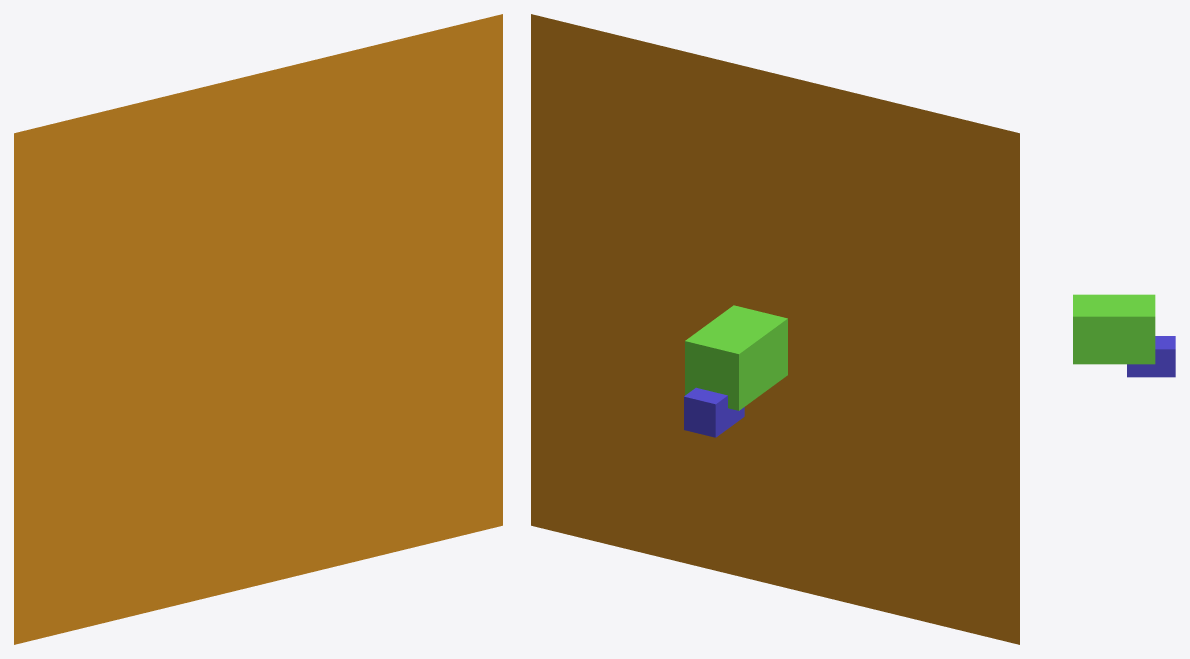
Rendered from personfbx_mason.fbx.
3 renders of one model, left to right at view 1: azimuth 30°, elevation 25°; view 2: azimuth 150°, elevation 25°; view 3: azimuth 270°, elevation 25°, orthographic. The views are drawn at different scales.
Visible parts, largest first — view 1: Plane; view 2: Plane, Cube, Cube.001; view 3: Cube, Cube.001.
Boxes of the visible parts, x1,y1,x2,y2 form: Plane: (14,14,502,644); Plane: (531,14,1019,644); Cube: (685,305,787,410); Cube.001: (684,387,744,437); Cube: (1073,294,1155,364); Cube.001: (1127,336,1175,377).
Bounding box in the file's own units: 21.95 × 21.95 × 5.88.
